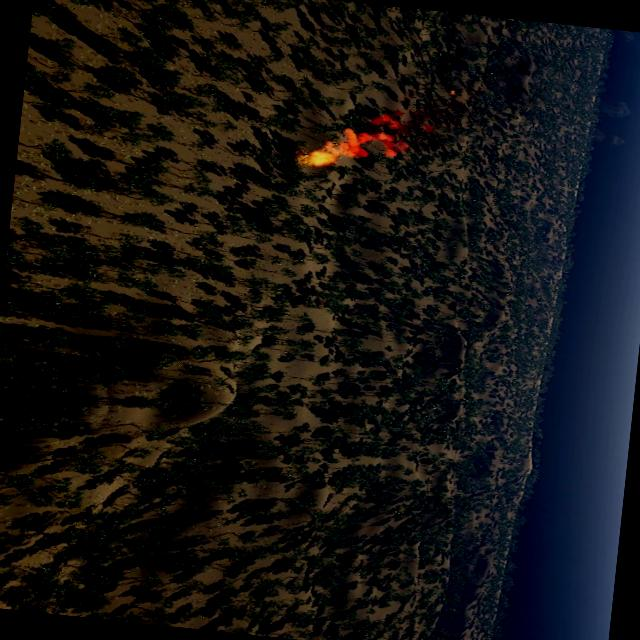fire: (302, 117, 405, 175), (447, 88, 456, 95)
smoke: (336, 91, 464, 165), (592, 98, 630, 122), (590, 130, 627, 147)
